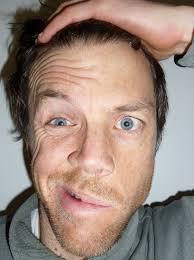strokeEyeSevere: (31, 92, 154, 143)
strokeMouthSevere: (49, 180, 118, 220)
